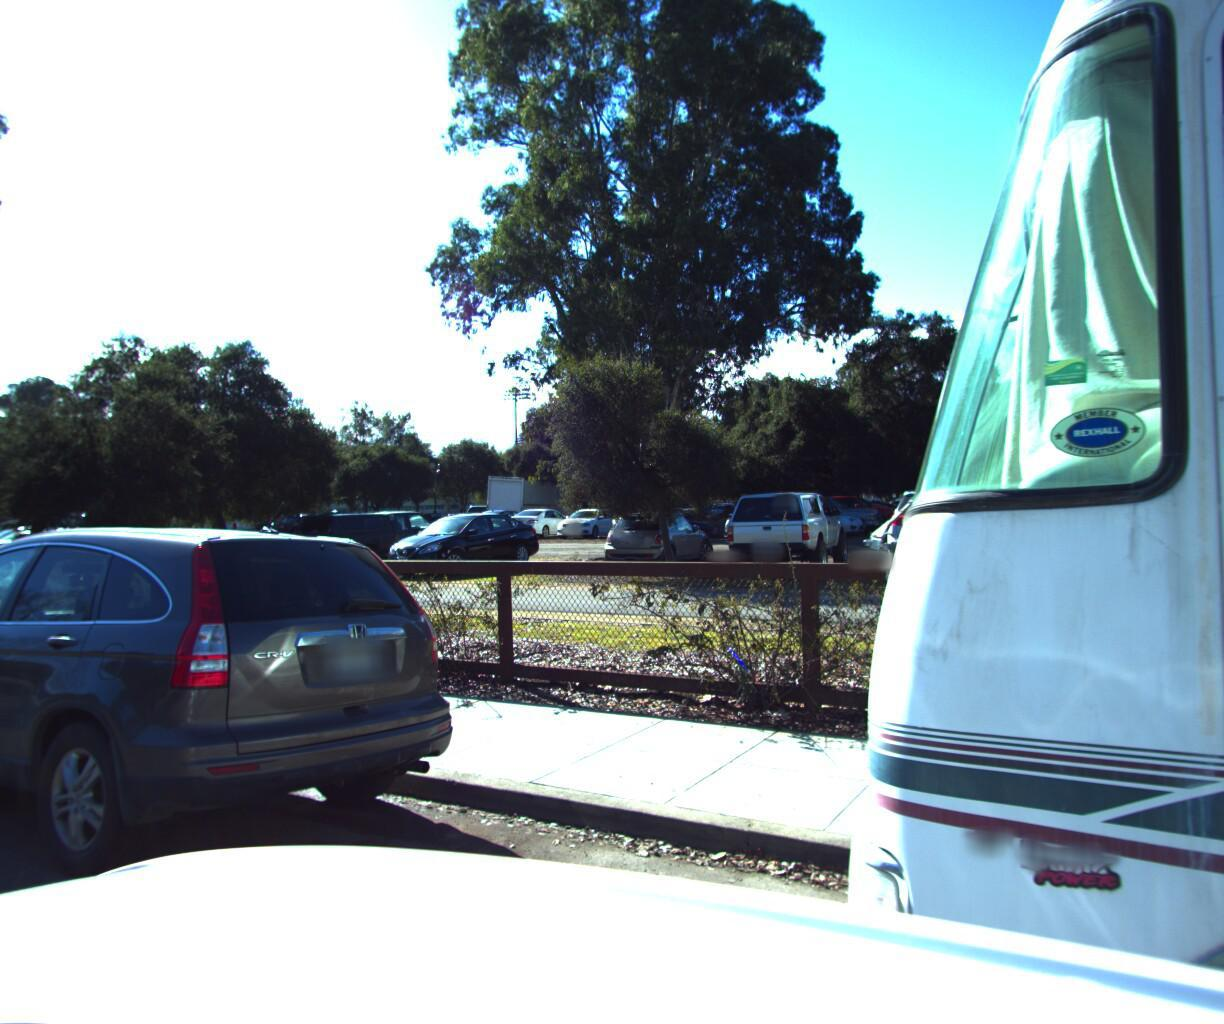car: (0, 503, 488, 964), (867, 476, 1011, 577), (364, 502, 550, 573), (714, 481, 851, 575), (278, 501, 471, 567)
